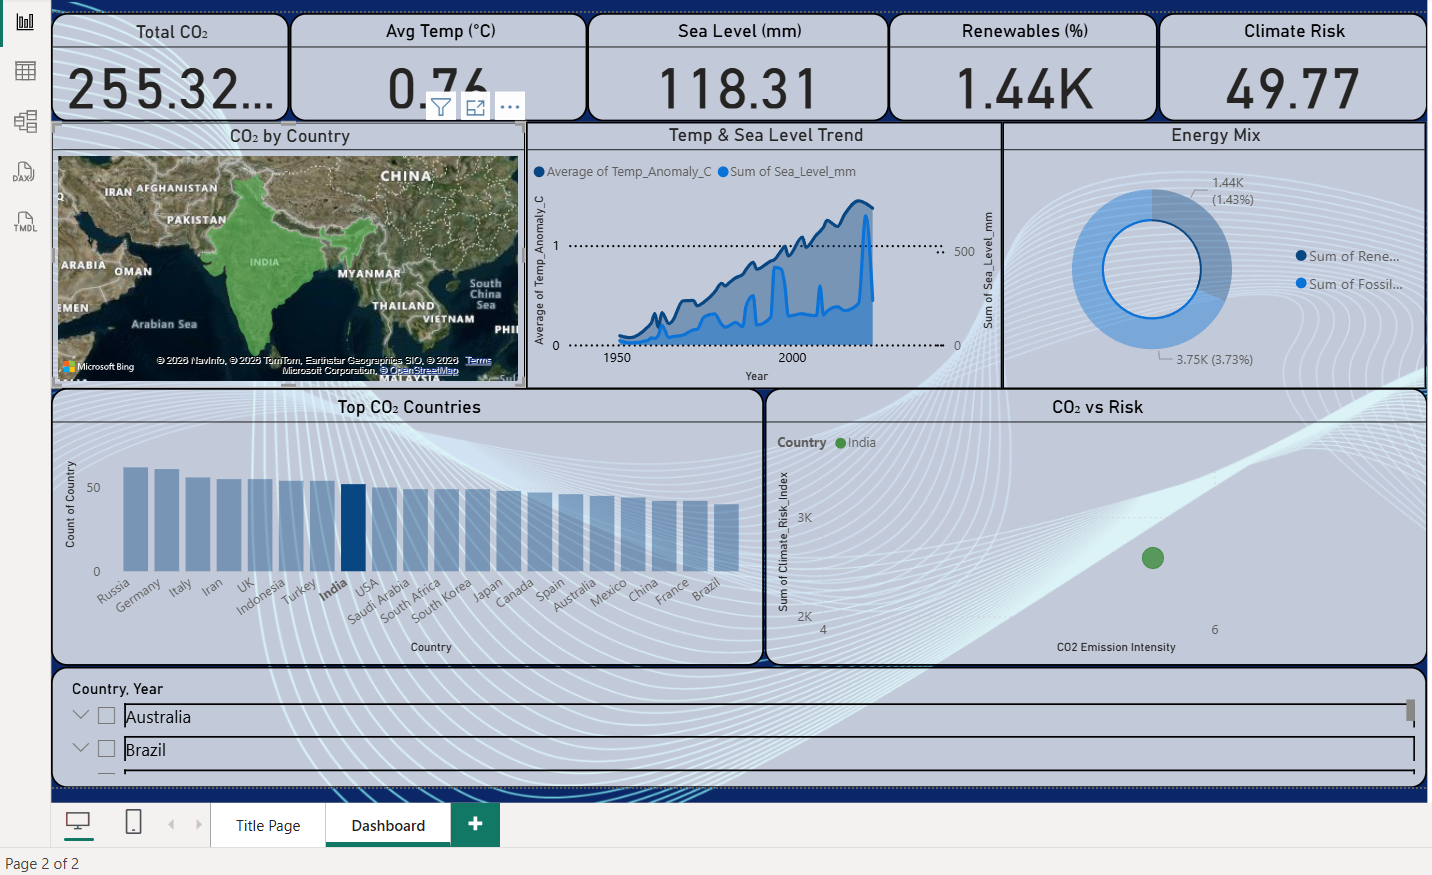

What the dashboard file says about the page in this screenshot:
{"tool":"powerbi","page":{"name":"Dashboard","canvas":[1280,720],"ordinal":1},"visuals":[{"type":"card","title":"Total CO₂","fields":{"Values":["Sum(global_climate_change_1000rows_25columns.CO2_Emissions_Mt)"]},"box":[0,0,221.7,100.8],"z":0},{"type":"card","title":"Avg Temp (°C)","fields":{"Values":["Avg(global_climate_change_1000rows_25columns.Temp_Anomaly_C)"]},"box":[221.7,0,277.2,100.8],"z":1000},{"type":"card","title":"Sea Level (mm)","fields":{"Values":["Avg(global_climate_change_1000rows_25columns.Sea_Level_mm)"]},"box":[498.9,0,280.5,100.8],"z":2000},{"type":"card","title":"Renewables (%)","fields":{"Values":["Sum(global_climate_change_1000rows_25columns.Renewable_Energy_%)"]},"box":[779.4,0,250.3,100.8],"z":3000},{"type":"card","title":"Climate Risk","fields":{"Values":["Avg(global_climate_change_1000rows_25columns.Climate_Risk_Index)"]},"box":[1029.7,0,250.3,100.8],"z":4000},{"type":"filledMap","title":"CO₂ by Country","fields":{"Category":["global_climate_change_1000rows_25columns.Country"]},"box":[0,100.8,441.8,248.6],"z":5000},{"type":"lineChart","title":"Temp & Sea Level Trend","fields":{"Category":["global_climate_change_1000rows_25columns.Year"],"Y":["Avg(global_climate_change_1000rows_25columns.Temp_Anomaly_C)"],"Y2":["Sum(global_climate_change_1000rows_25columns.Sea_Level_mm)"]},"box":[441.8,100.8,443.5,248.6],"z":6000},{"type":"donutChart","title":"Energy Mix","fields":{"Y":["Sum(global_climate_change_1000rows_25columns.Renewable_Energy_%)","Sum(global_climate_change_1000rows_25columns.Fossil_Fuel_%)"]},"box":[885.2,100.8,394.8,248.6],"z":7000},{"type":"clusteredColumnChart","title":"Top CO₂ Countries","fields":{"Category":["global_climate_change_1000rows_25columns.Country"],"Y":["CountNonNull(global_climate_change_1000rows_25columns.Country)"]},"box":[0,349.4,663.5,258.7],"z":8000},{"type":"scatterChart","title":"CO₂ vs Risk","fields":{"X":["global_climate_change_1000rows_25columns.CO2 Emission Intensity"],"Y":["Sum(global_climate_change_1000rows_25columns.Climate_Risk_Index)"],"Series":["global_climate_change_1000rows_25columns.Country"],"Size":["Sum(global_climate_change_1000rows_25columns.Population_Millions)"]},"box":[663.5,349.4,616.5,258.7],"z":9000},{"type":"slicer","fields":{"Values":["global_climate_change_1000rows_25columns.Country","global_climate_change_1000rows_25columns.Year"]},"box":[0,608.1,1280,112.5],"z":10000}]}

Visuals, with their boxes in screenshot pixels (x1, y1, x2, y2):
"Total CO₂" card: 60, 11, 296, 118
"Avg Temp (°C)" card: 296, 11, 591, 118
"Sea Level (mm)" card: 591, 11, 889, 118
"Renewables (%)" card: 889, 11, 1155, 118
"Climate Risk" card: 1155, 11, 1422, 118
"CO₂ by Country" filledMap: 60, 118, 530, 383
"Temp & Sea Level Trend" lineChart: 530, 118, 1002, 383
"Energy Mix" donutChart: 1002, 118, 1422, 383
"Top CO₂ Countries" clusteredColumnChart: 60, 383, 766, 658
"CO₂ vs Risk" scatterChart: 766, 383, 1422, 658
slicer - global_climate_change_1000rows_25columns.Country x global_climate_change_1000rows_25columns.Year: 60, 658, 1422, 778
